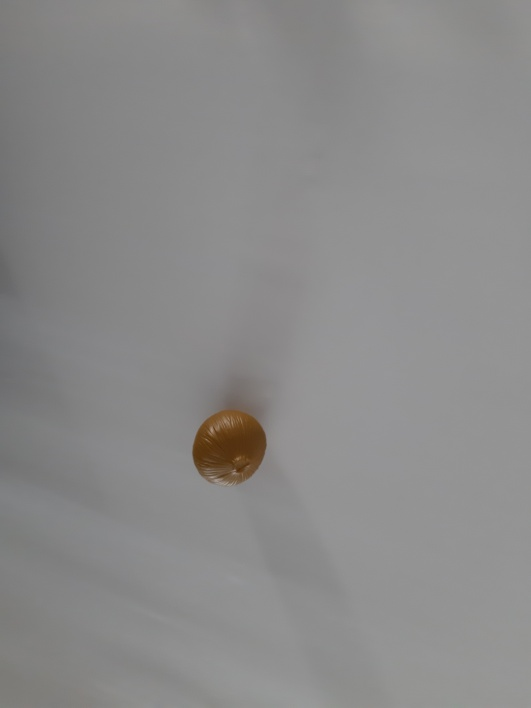onion: (180, 399, 275, 501)
